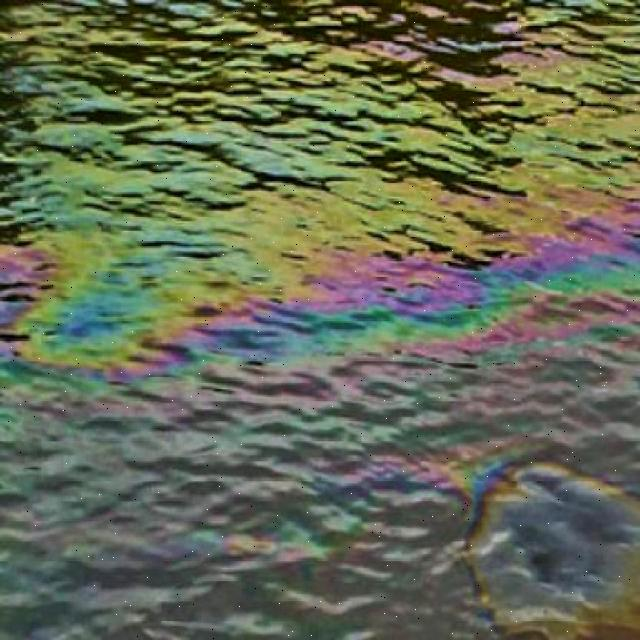oil: (3, 8, 640, 472), (12, 444, 446, 594), (453, 472, 640, 634)
